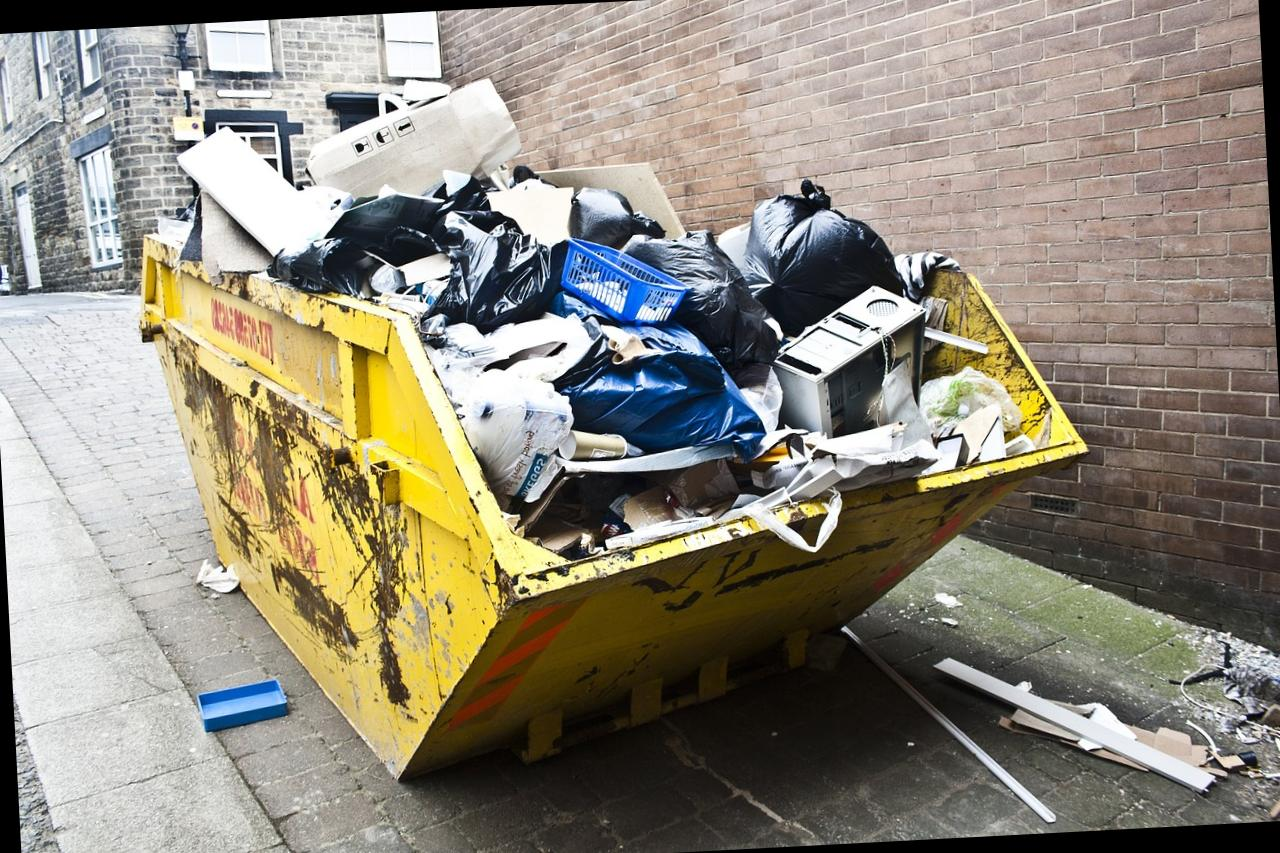trash: (193, 105, 1026, 542)
